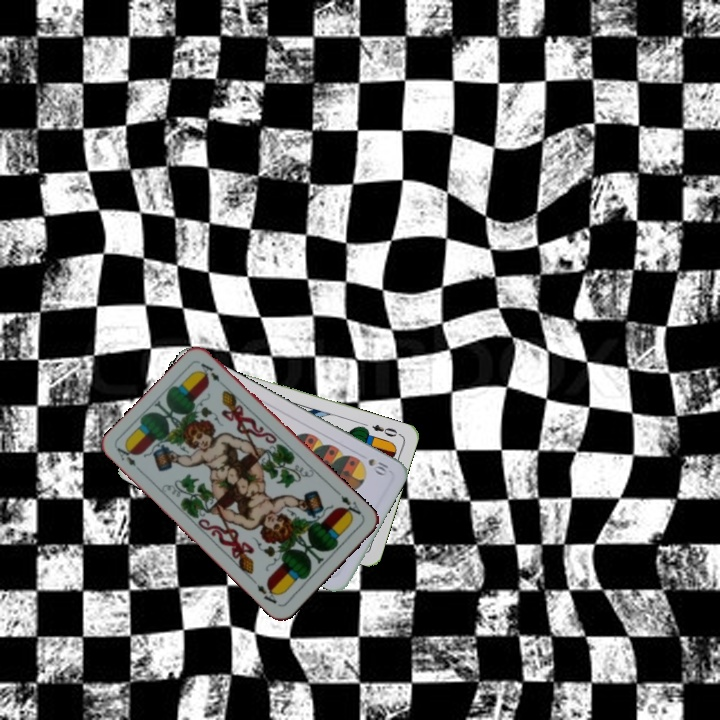EA: (333, 487, 366, 521), (113, 442, 145, 476)
EO: (368, 420, 403, 439)
S10: (364, 454, 391, 477)
